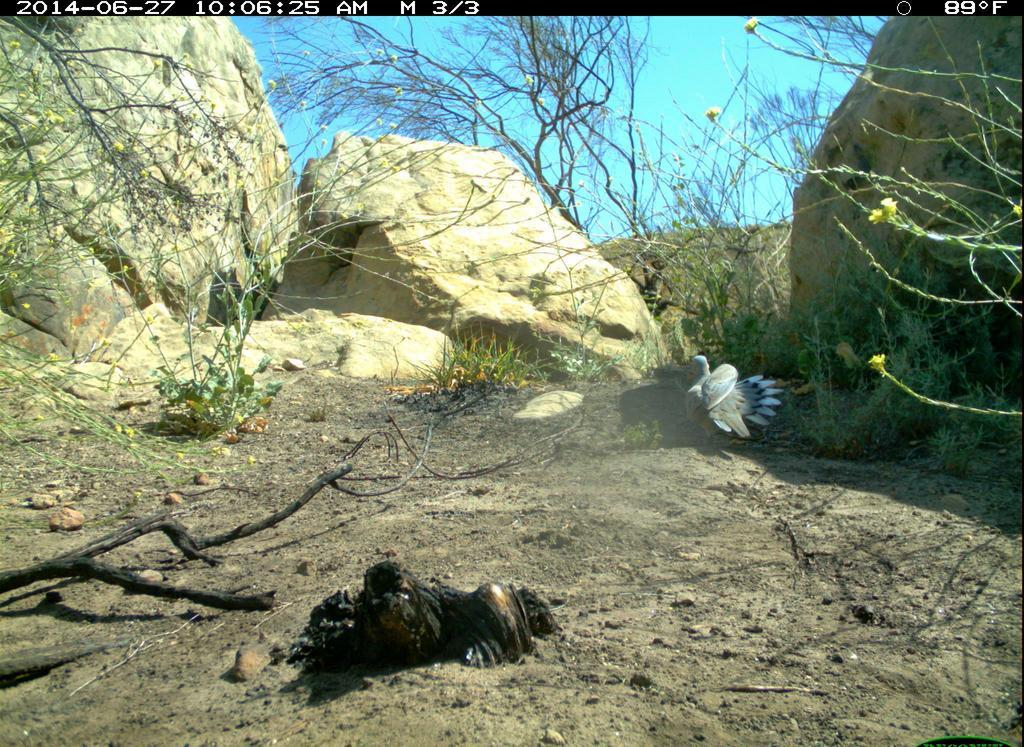bird: (680, 344, 793, 464)
